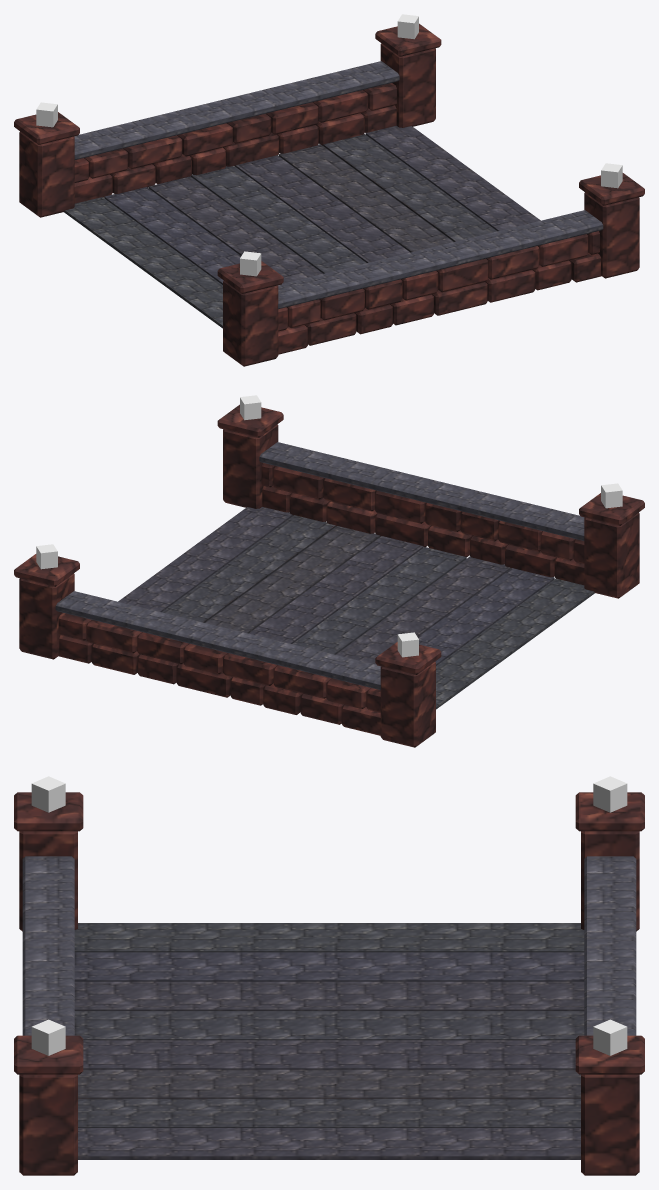
File: mapkit_bridge_magma.fbx
The picture shows the model from 3 angles, top to bottom: view 1: azimuth 30°, elevation 25°; view 2: azimuth 150°, elevation 25°; view 3: azimuth 270°, elevation 25°; orthographic projection. The views are drawn at different scales.
Parts seen in each view (by area): view 1: Body, c_255_115_31; view 2: Body, c_255_115_31; view 3: Body, c_255_115_31.
Boxes of the visible parts, <box> form: Body: <box>14,23,644,366</box>; c_255_115_31: <box>36,14,622,276</box>; Body: <box>14,404,644,747</box>; c_255_115_31: <box>36,395,622,657</box>; Body: <box>14,792,644,1175</box>; c_255_115_31: <box>31,776,627,1055</box>.
Size of the model in its own units: 1860 by 440 by 1820.
1 material, 1 textured.
